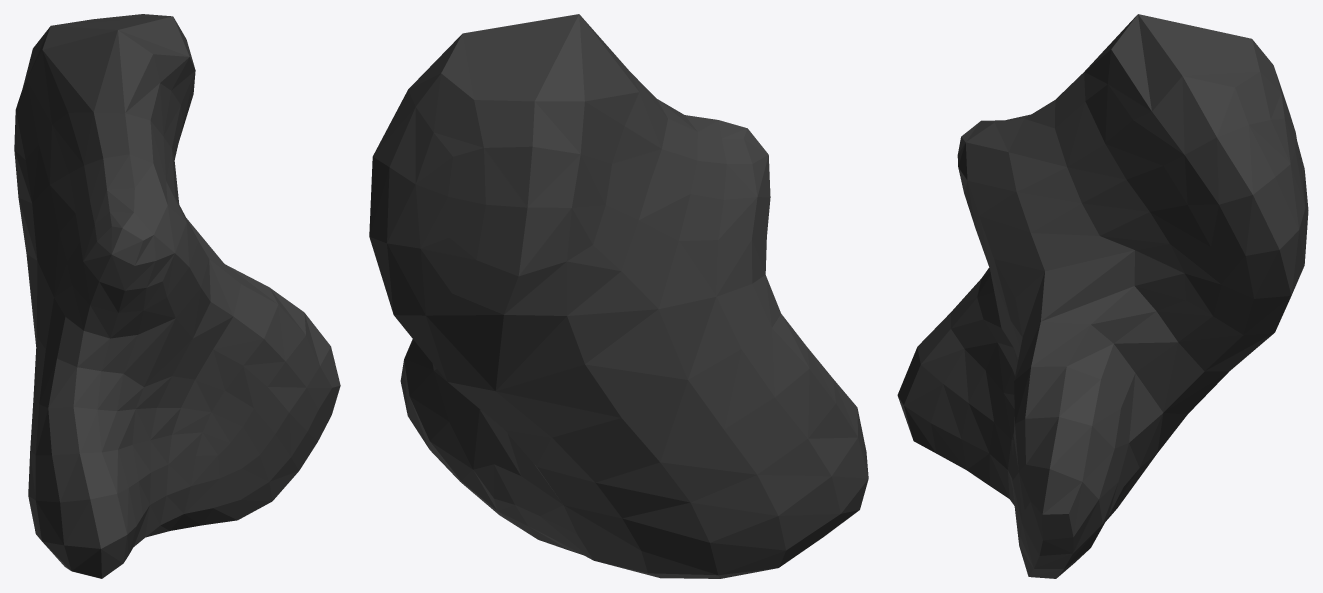
File: RHL_tarsus2.glb
The picture shows the model from 3 angles, left to right: view 1: azimuth 30°, elevation 25°; view 2: azimuth 150°, elevation 25°; view 3: azimuth 270°, elevation 25°; orthographic projection. The views are drawn at different scales.
Parts seen in each view (by area): view 1: RHL_tarsus2; view 2: RHL_tarsus2; view 3: RHL_tarsus2.
Part boxes in pixels (x1=…): RHL_tarsus2: x1=14, y1=14, x2=340, y2=578; RHL_tarsus2: x1=369, y1=14, x2=868, y2=578; RHL_tarsus2: x1=897, y1=14, x2=1308, y2=578.
Bounding box in the file's own units: 12.46 × 17.48 × 12.41.
Materials: 1 (1 with a texture image).
